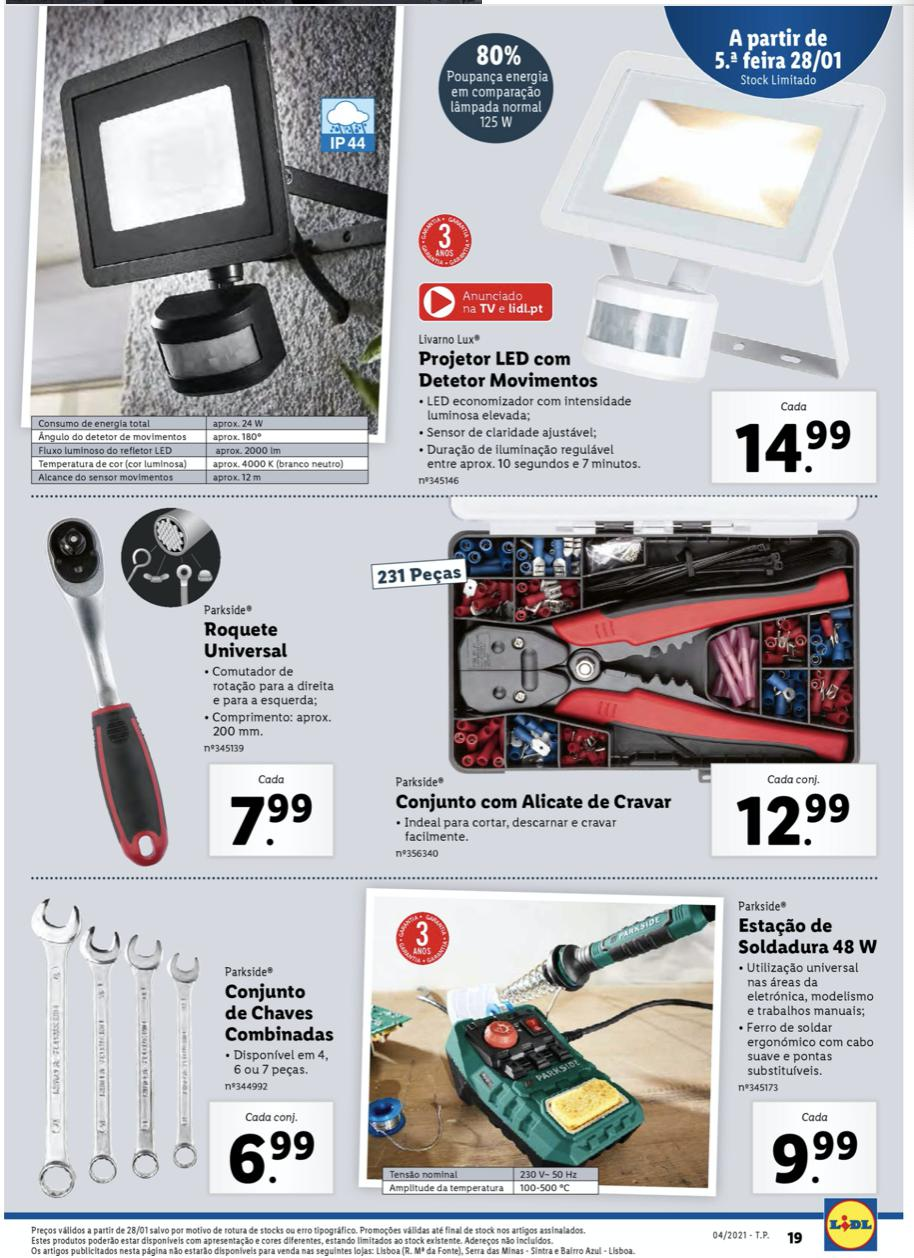name: (417, 347, 603, 394), (221, 978, 339, 1047), (391, 789, 677, 815), (735, 912, 885, 961), (197, 619, 294, 662)
price: (733, 415, 853, 478), (222, 787, 321, 855), (735, 794, 855, 850), (222, 1126, 321, 1190), (766, 1126, 863, 1187)
product: (14, 17, 892, 487), (361, 512, 886, 864), (357, 887, 897, 1205), (17, 508, 349, 865), (14, 894, 349, 1197)
